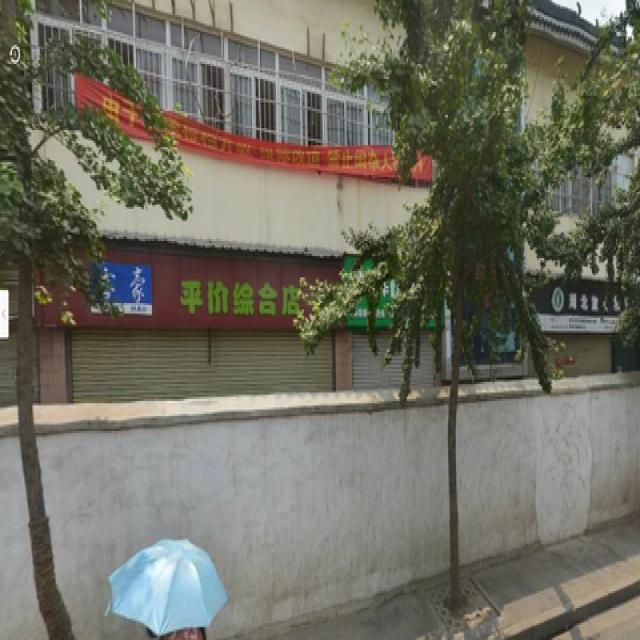gink: (400, 28, 517, 589), (11, 23, 113, 606)
